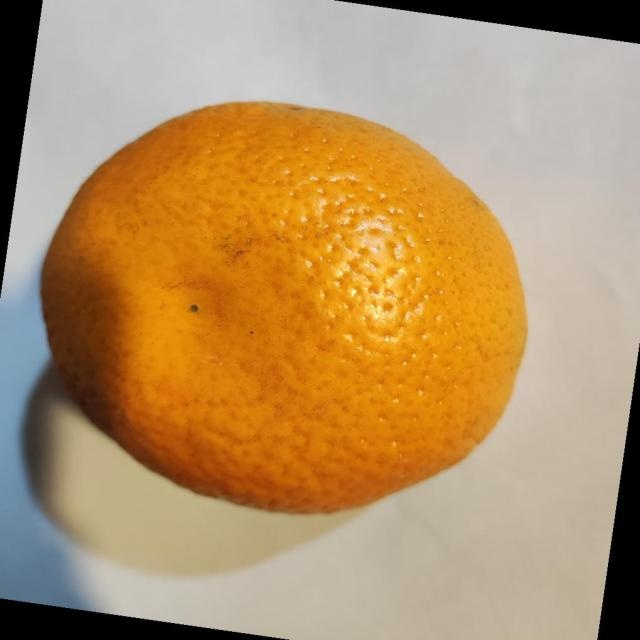agrume: (39, 99, 529, 516)
